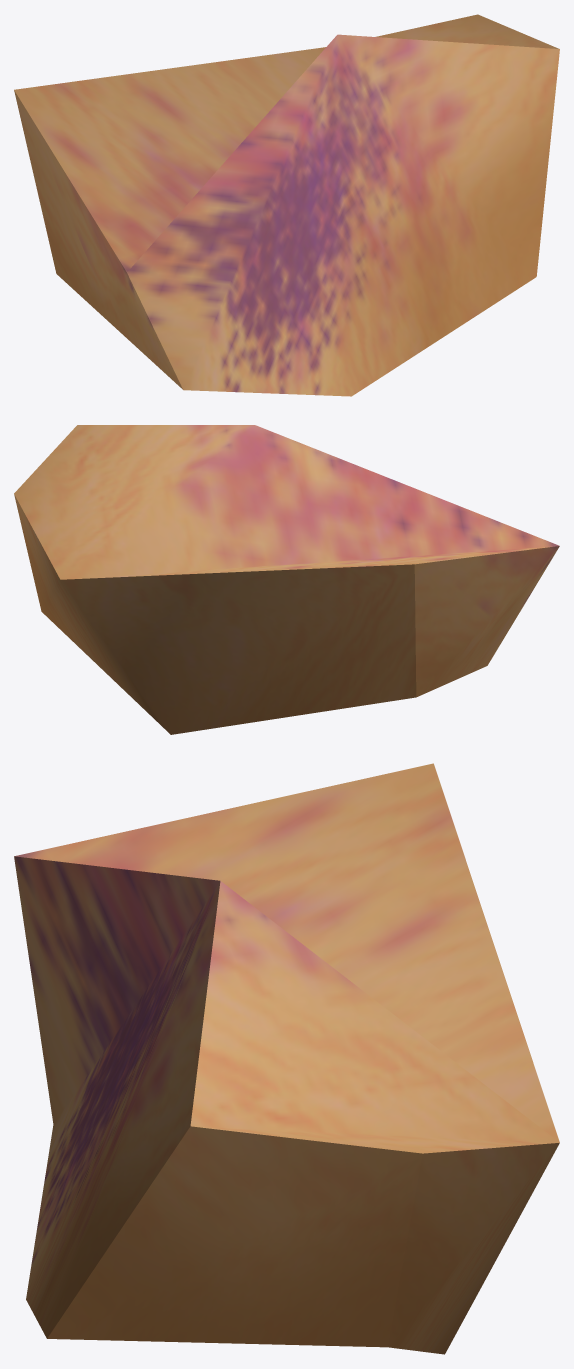
Rendered from Rock_One.fbx.
The picture shows the model from 3 angles, top to bottom: view 1: azimuth 30°, elevation 25°; view 2: azimuth 150°, elevation 25°; view 3: azimuth 270°, elevation 25°; orthographic projection. The views are drawn at different scales.
Visible parts, largest first — view 1: pCube1; view 2: pCube1; view 3: pCube1.
Part boxes in pixels (x1=…): pCube1: x1=14, y1=14, x2=559, y2=396; pCube1: x1=14, y1=425, x2=559, y2=734; pCube1: x1=14, y1=763, x2=559, y2=1354.
Bounding box in the file's own units: 0.6902 × 0.4078 × 0.4406.
Materials: 1 (1 with a texture image).
